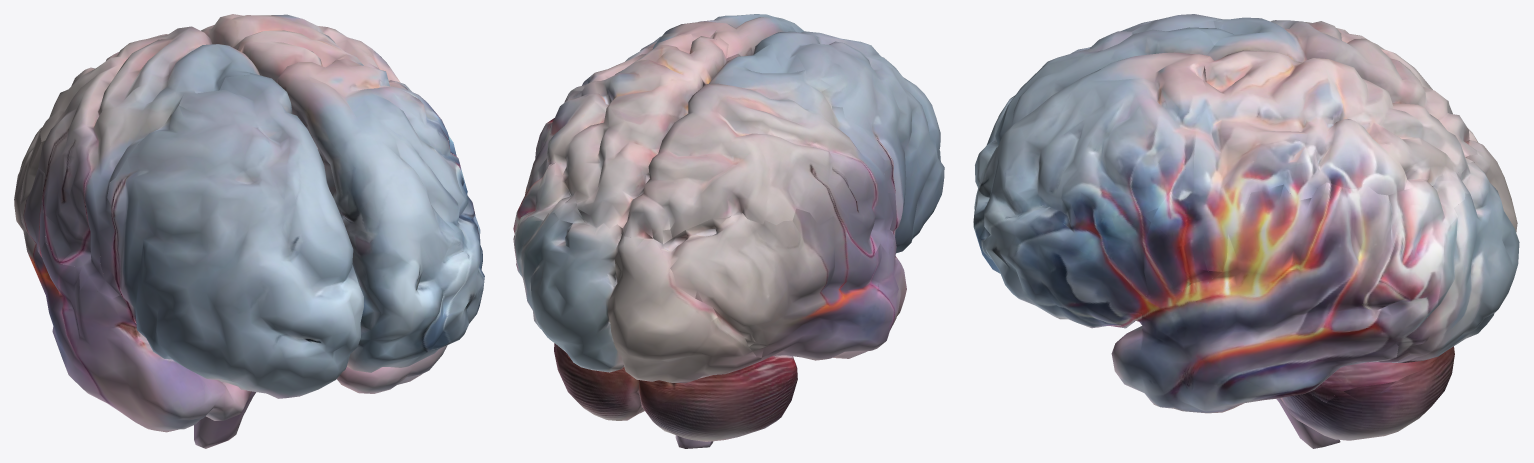
The model's file is brain-illuminated.glb.
3 renders of one model, left to right at view 1: azimuth 30°, elevation 25°; view 2: azimuth 150°, elevation 25°; view 3: azimuth 270°, elevation 25°, orthographic. The views are drawn at different scales.
Visible parts, largest first — view 1: Frontal_Lobe, Parietal_Lobe, Temporal_Lobe, Brainstem; view 2: Parietal_Lobe, Temporal_Lobe, Occipital_Lobe, Frontal_Lobe, Cerebellum; view 3: Temporal_Lobe, Frontal_Lobe, Parietal_Lobe, Occipital_Lobe, Cerebellum, Mesh_0, Brainstem.
Part boxes in pixels (x1,y1,x2,y2): Frontal_Lobe: [99, 58, 484, 398]; Parietal_Lobe: [38, 14, 451, 298]; Temporal_Lobe: [14, 127, 447, 432]; Brainstem: [194, 391, 256, 448]; Parietal_Lobe: [547, 34, 894, 255]; Temporal_Lobe: [513, 118, 906, 360]; Occipital_Lobe: [514, 212, 769, 383]; Frontal_Lobe: [640, 14, 944, 253]; Cerebellum: [554, 343, 797, 441]; Temporal_Lobe: [1111, 128, 1478, 413]; Frontal_Lobe: [973, 14, 1221, 328]; Parietal_Lobe: [1143, 17, 1477, 298]; Occipital_Lobe: [1369, 140, 1519, 362]; Cerebellum: [1280, 346, 1454, 440]; Mesh_0: [1308, 162, 1474, 402]; Brainstem: [1276, 357, 1437, 448].
Bounding box in the file's own units: 1.5 × 1.63 × 2.01.
1 material, 1 textured.
